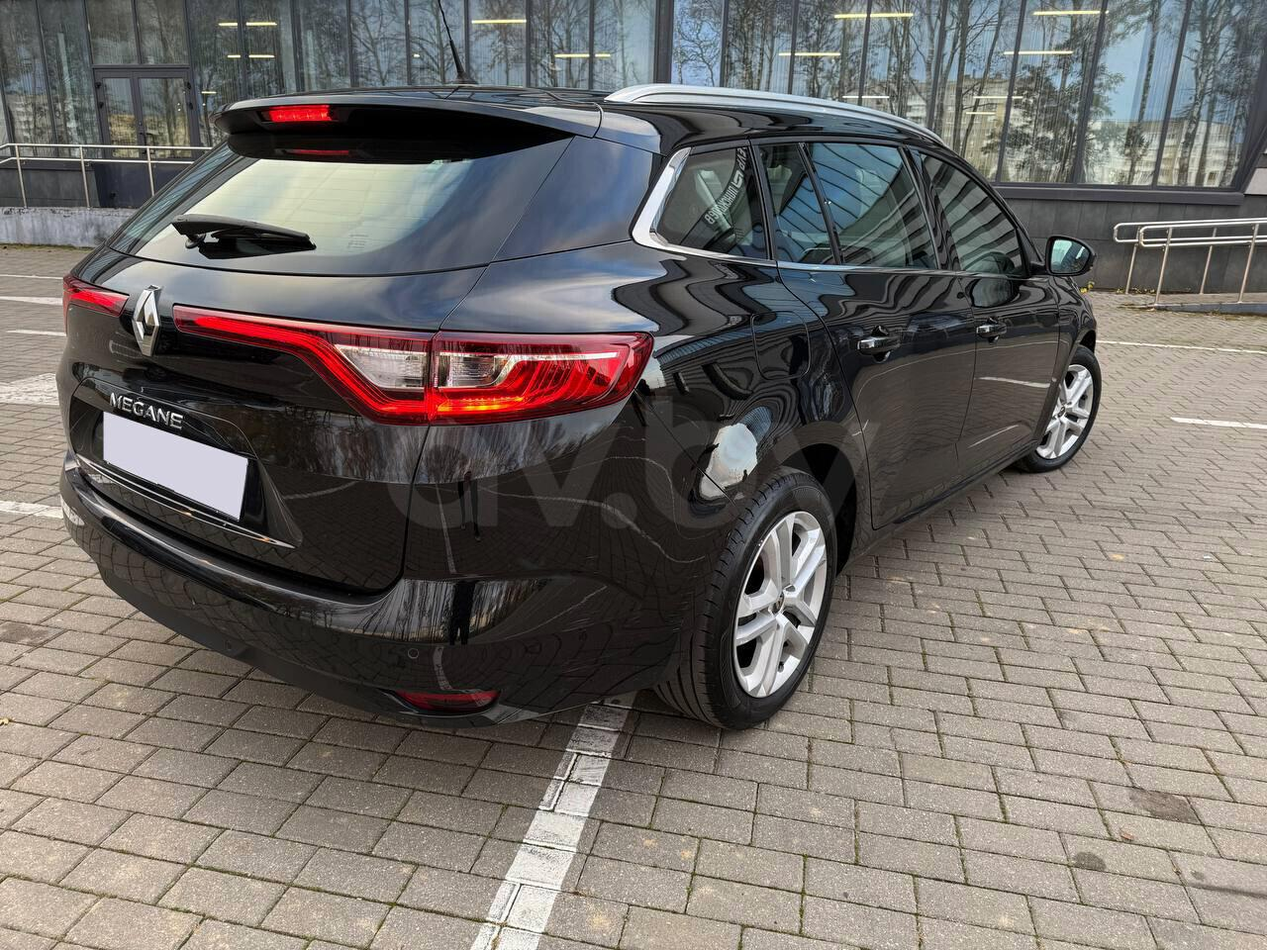Megane_2016-2020: (52, 66, 1109, 746)
